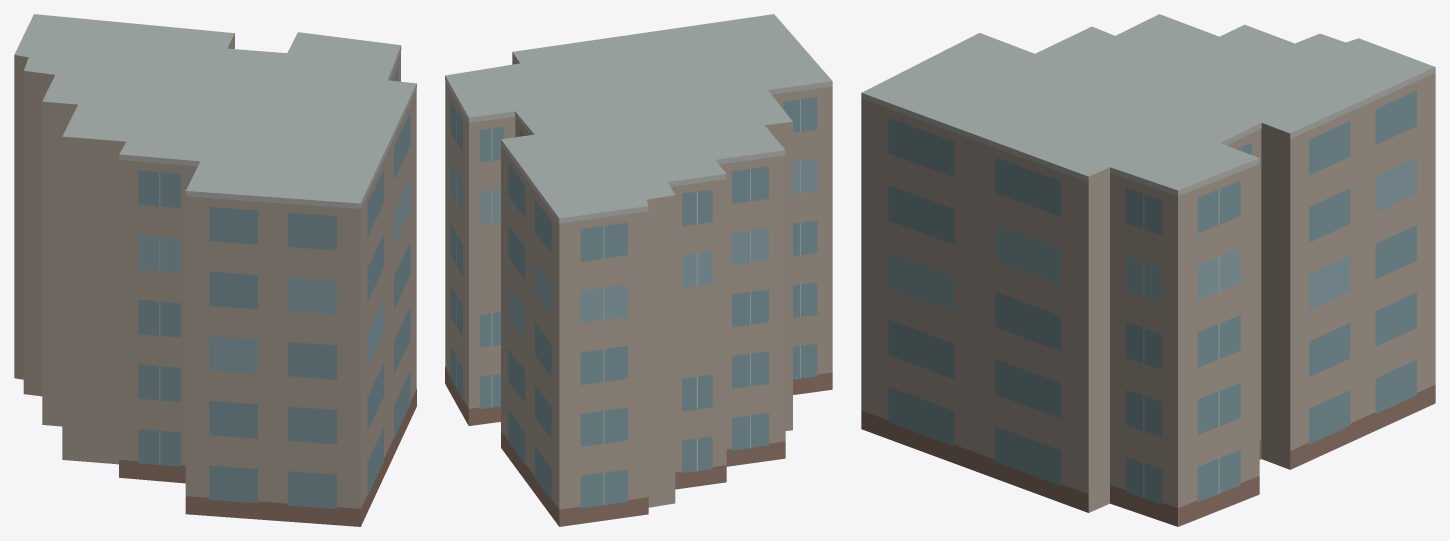
The model's file is survey-upis-32951777.glb.
3 renders of one model, left to right at view 1: azimuth 30°, elevation 25°; view 2: azimuth 150°, elevation 25°; view 3: azimuth 270°, elevation 25°, orthographic. The views are drawn at different scales.
Visible parts, largest first — view 1: survey-upis-32951777.tmp; view 2: survey-upis-32951777.tmp; view 3: survey-upis-32951777.tmp.
Part boxes in pixels (box(x1,y1,x2,y2)): survey-upis-32951777.tmp: box(14, 14, 416, 526); survey-upis-32951777.tmp: box(445, 14, 832, 526); survey-upis-32951777.tmp: box(861, 14, 1435, 526).
Bounding box in the file's own units: 16.11 × 14.3 × 22.13.
